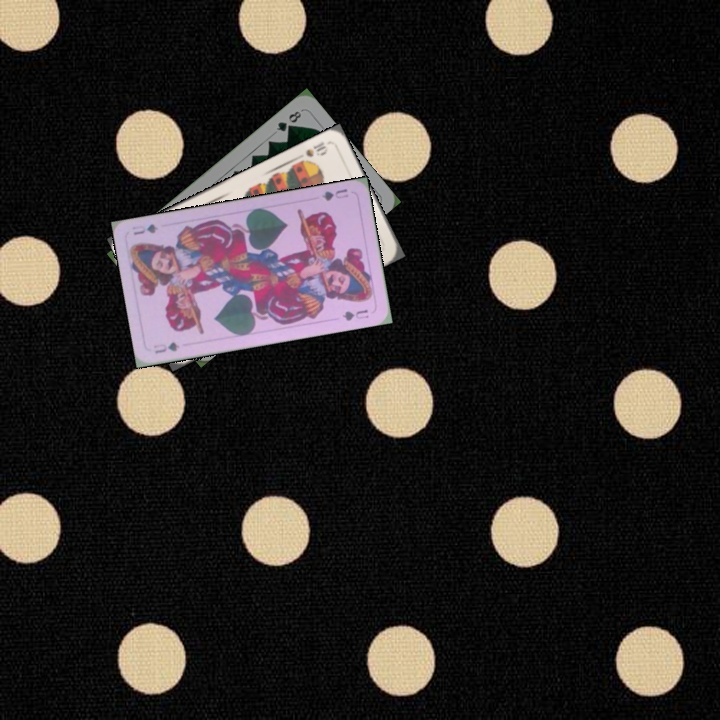G8: (272, 107, 304, 134)
GU: (318, 184, 351, 204), (150, 338, 182, 356)
S10: (296, 137, 330, 167)
